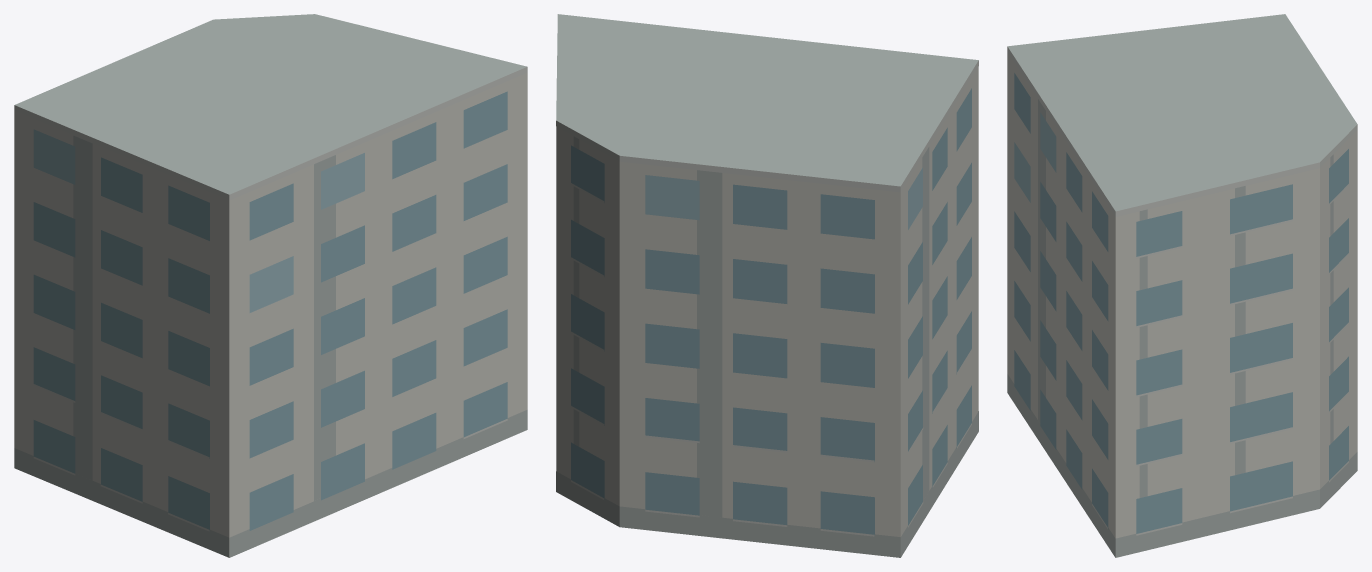
The model's file is survey-upis-32955707.glb.
3 renders of one model, left to right at view 1: azimuth 30°, elevation 25°; view 2: azimuth 150°, elevation 25°; view 3: azimuth 270°, elevation 25°, orthographic. The views are drawn at different scales.
Visible parts, largest first — view 1: survey-upis-32955707.tmp; view 2: survey-upis-32955707.tmp; view 3: survey-upis-32955707.tmp.
Part boxes in pixels (x1,y1,x2,y2): survey-upis-32955707.tmp: [14, 14, 527, 557]; survey-upis-32955707.tmp: [556, 14, 978, 557]; survey-upis-32955707.tmp: [1007, 14, 1357, 557].
Size of the model in its own units: 18.65 by 15.25 by 13.98.
